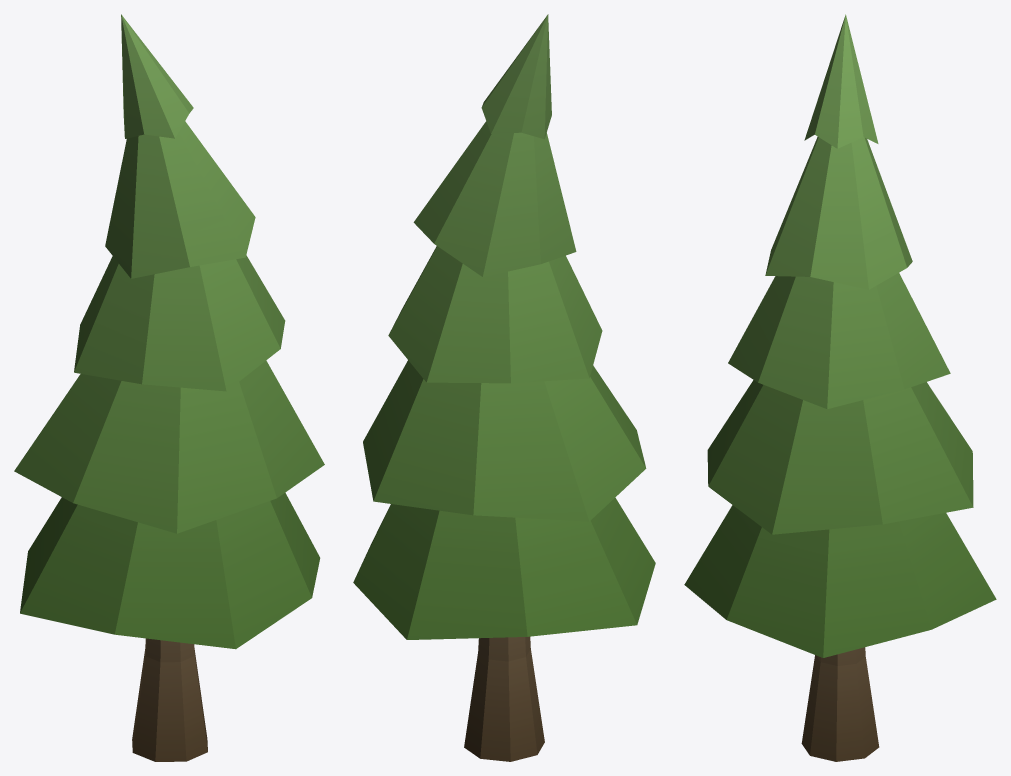
File: tree_a.glb
3 views of the same model, side by side, from view 1: azimuth 30°, elevation 25°; view 2: azimuth 150°, elevation 25°; view 3: azimuth 270°, elevation 25° (orthographic). The views are drawn at different scales.
Visible parts, largest first — view 1: Lowpoly_Pine_03_Orange_SimplePolygonPalette_0; view 2: Lowpoly_Pine_03_Orange_SimplePolygonPalette_0; view 3: Lowpoly_Pine_03_Orange_SimplePolygonPalette_0.
Boxes of the visible parts, left/top/right/bottom form: Lowpoly_Pine_03_Orange_SimplePolygonPalette_0: left=14, top=14, right=324, bottom=761; Lowpoly_Pine_03_Orange_SimplePolygonPalette_0: left=353, top=14, right=655, bottom=761; Lowpoly_Pine_03_Orange_SimplePolygonPalette_0: left=684, top=14, right=996, bottom=761.
Bounding box in the file's own units: 1.99 × 5 × 1.99.
Materials: 1 (1 with a texture image).
